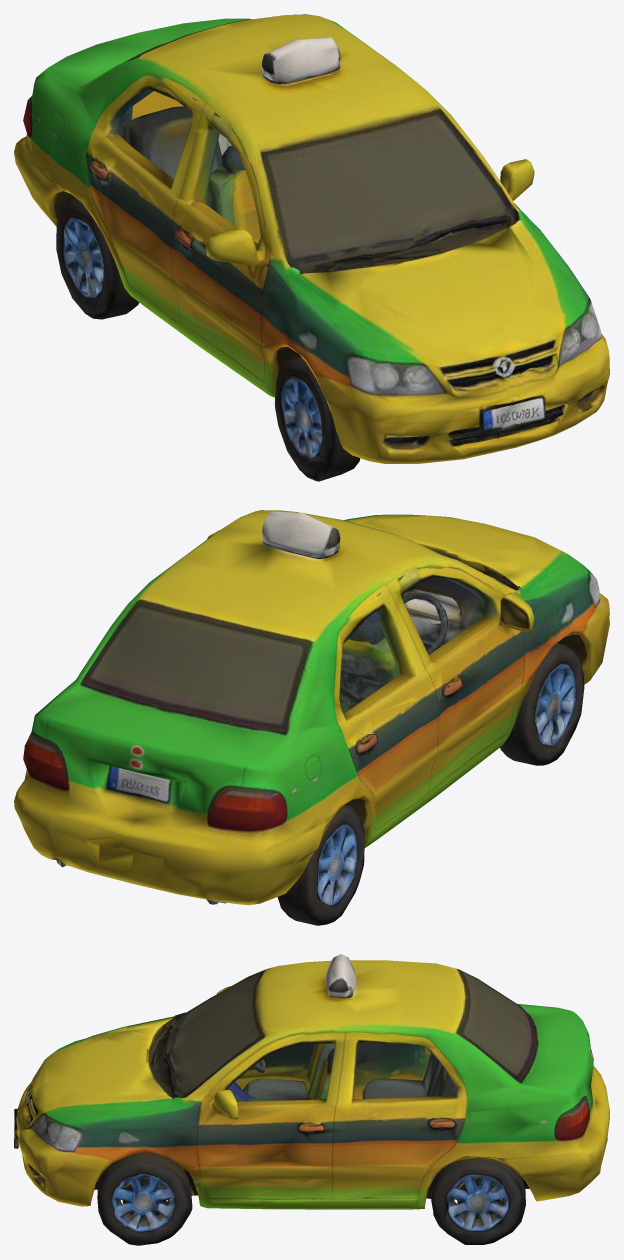
The model's file is voiture.glb.
3 renders of one model, top to bottom at view 1: azimuth 30°, elevation 25°; view 2: azimuth 150°, elevation 25°; view 3: azimuth 270°, elevation 25°, orthographic. The views are drawn at different scales.
Parts seen in each view (by area): view 1: tripo_node_100e8bcb-2316-427b-9c3d-9348eb8bbd52; view 2: tripo_node_100e8bcb-2316-427b-9c3d-9348eb8bbd52; view 3: tripo_node_100e8bcb-2316-427b-9c3d-9348eb8bbd52.
Part boxes in pixels (x1,y1,x2,y2): tripo_node_100e8bcb-2316-427b-9c3d-9348eb8bbd52: [14, 14, 609, 481]; tripo_node_100e8bcb-2316-427b-9c3d-9348eb8bbd52: [14, 510, 609, 925]; tripo_node_100e8bcb-2316-427b-9c3d-9348eb8bbd52: [14, 954, 609, 1245].
Size of the model in its own units: 0.4804 by 0.4425 by 0.9996.
1 material, 1 textured.
